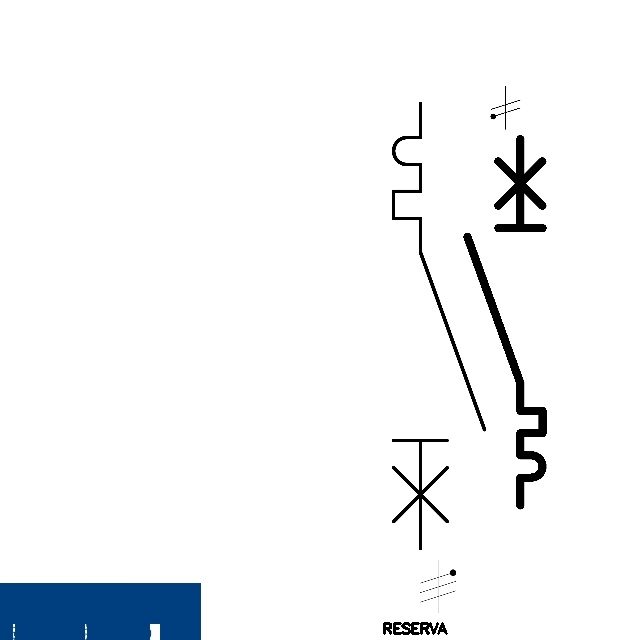interruptor_termomagnetico: (382, 92, 496, 560), (458, 129, 552, 515)
